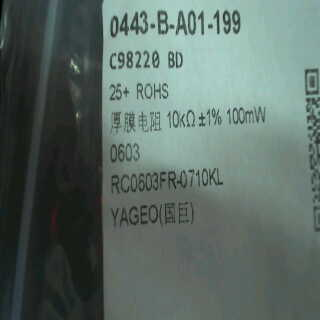10kR: (161, 106, 198, 133)
